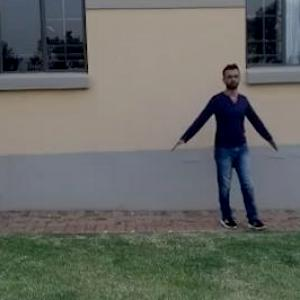land: (170, 70, 278, 233)
